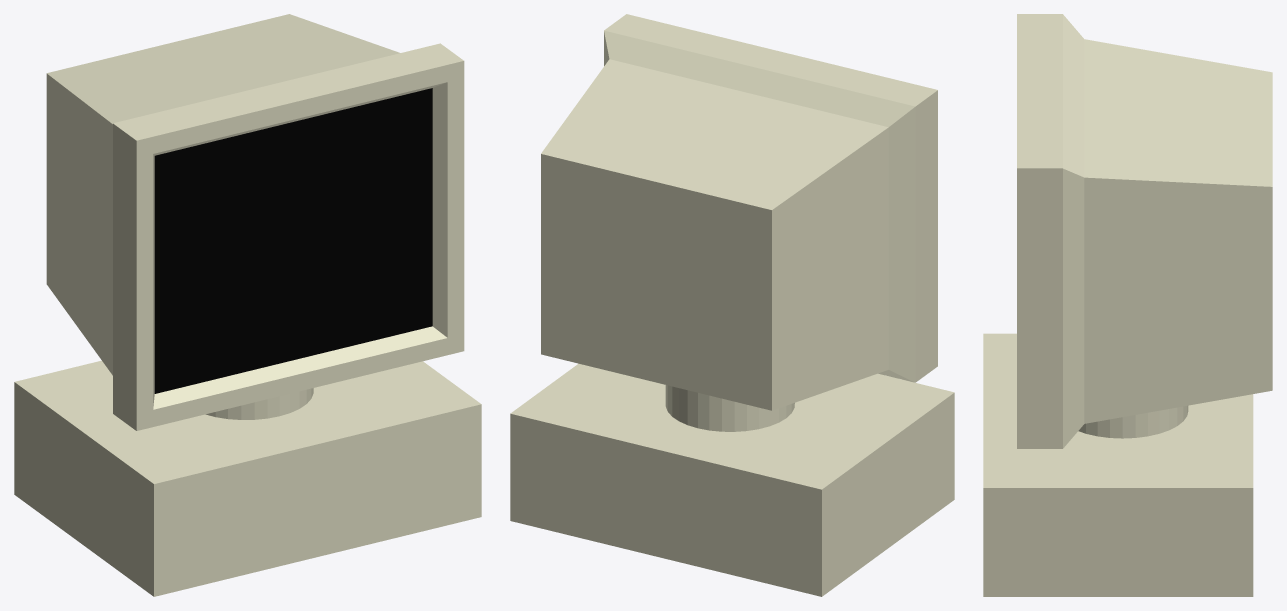
The model's file is computer.fbx.
3 renders of one model, left to right at view 1: azimuth 30°, elevation 25°; view 2: azimuth 150°, elevation 25°; view 3: azimuth 270°, elevation 25°, orthographic. The views are drawn at different scales.
Visible parts, largest first — view 1: pc; view 2: pc; view 3: pc.
Boxes of the visible parts, x1=… form: pc: x1=14, y1=14, x2=481, y2=596; pc: x1=510, y1=14, x2=954, y2=596; pc: x1=983, y1=14, x2=1272, y2=596.
Bounding box in the file's own units: 45.89 × 59.37 × 36.36.
